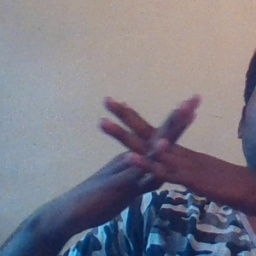W: (85, 78, 216, 224)
